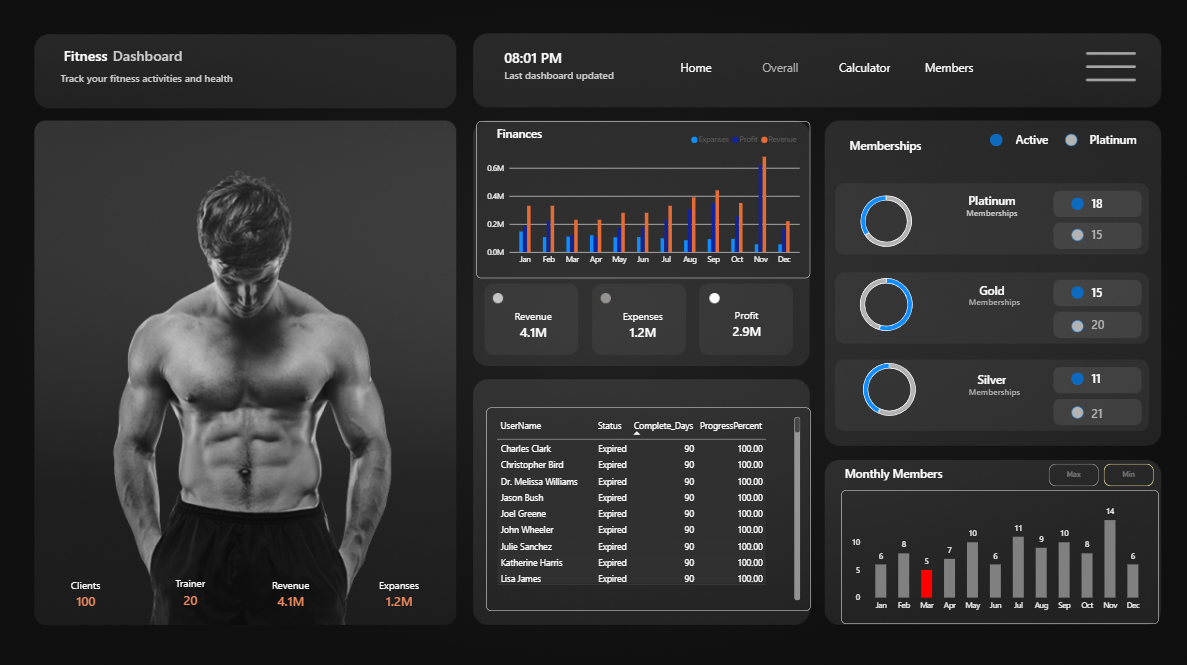

The dashboard page shown, as its layout file describes it:
{"tool":"powerbi","page":{"name":"Overall","canvas":[1920,1080],"ordinal":1},"visuals":[{"type":"cardVisual","fields":{"Data":["Users.Users_Count"]},"box":[82.4,928,126.7,60],"z":0},{"type":"cardVisual","fields":{"Data":["Count(Users.Trainer Name)"]},"box":[242.4,926.9,141.1,60],"z":1000},{"type":"cardVisual","fields":{"Data":["Users.Revenue"]},"box":[410.2,928,126.7,60],"z":2000},{"type":"cardVisual","fields":{"Data":["Users.// Total ExpensesExpanses"]},"box":[576.9,928,141.1,60],"z":3000},{"type":"cardVisual","fields":{"Data":["Users.Revenue"]},"box":[798.9,497.1,126.7,60],"z":4000},{"type":"cardVisual","fields":{"Data":["Users.// Total ExpensesExpanses"]},"box":[965.6,497.1,141.1,60],"z":5000},{"type":"cardVisual","fields":{"Data":["Users.Profit"]},"box":[1132.2,496.7,141.1,60],"z":6000},{"type":"clusteredColumnChart","fields":{"Category":["Calendar.Month"],"Y":["Users.Expanses","Users.Profit","Users.Revenue"]},"box":[769,202,534.4,251.1],"z":7000},{"type":"columnChart","fields":{"Category":["Calendar.Month"],"Y":["Users.Users_Count"]},"box":[1354,792,508,214],"z":8000},{"type":"advancedSlicerVisual","fields":{"Values":["Min_Max_Switch.Type"]},"box":[1685.5,749.1,168,36],"z":9000},{"type":"shape","box":[782.5,202.5,114,37],"z":10000},{"type":"shape","box":[1354.4,743.3,167.8,41.1],"z":11000},{"type":"tableEx","fields":{"Values":["Users.UserName","Users.Status","Users.Complete_Days","Users.ProgressPercent"]},"box":[785.4,660.5,519.4,325.7],"z":12000},{"type":"shape","box":[1538,596,114,37],"z":13000},{"type":"shape","box":[1538,453,114,37],"z":14000},{"type":"shape","box":[1538,310,114,37],"z":15000},{"type":"shape","box":[1542,615,114,37],"z":16000},{"type":"shape","box":[1541.6,471.8,114,37],"z":17000},{"type":"shape","box":[1538,329,114,37],"z":18000},{"type":"donutChart","fields":{"Category":["Users.Status"],"Y":["Users.User_Gold"]},"box":[1355.7,564.3,150,135.7],"z":19000},{"type":"donutChart","fields":{"Category":["Users.Status"],"Y":["Users.User_Platinum"]},"box":[1355.7,428.6,140,135.7],"z":20000},{"type":"donutChart","fields":{"Category":["Users.Status"],"Y":["Users.User_Silver"]},"box":[1355.7,295.7,140,132.9],"z":21000},{"type":"cardVisual","fields":{"Data":["Users.Platinum_Active"]},"box":[1738.2,311.8,65.7,42.9],"z":22000},{"type":"cardVisual","fields":{"Data":["Users.Platinum_Expired"]},"box":[1738,362.9,65.7,42.9],"z":23000},{"type":"cardVisual","fields":{"Data":["Users.Gold_Active"]},"box":[1738.2,454.5,65.7,42.9],"z":24000},{"type":"cardVisual","fields":{"Data":["Users.Gold_Expired"]},"box":[1738,505.4,65.7,42.9],"z":25000},{"type":"cardVisual","fields":{"Data":["Users.Silver_Active"]},"box":[1738,591.4,65.7,42.9],"z":26000},{"type":"cardVisual","fields":{"Data":["Users.Silver_Expired"]},"box":[1738,647.1,65.7,42.9],"z":27000},{"type":"shape","box":[1722.7,323.6,20,20],"z":28000},{"type":"shape","box":[1722.7,465.5,20,20],"z":29000},{"type":"shape","box":[1722.7,604.5,20,20],"z":30000},{"type":"shape","box":[1722.7,374.5,20,20],"z":31000},{"type":"shape","box":[1722.7,519.8,20,20],"z":32000},{"type":"shape","box":[1722.7,658.9,20,20],"z":33000},{"type":"shape","box":[1354.3,221.4,141.4,37.1],"z":34000},{"type":"shape","box":[1591,221.6,20,20],"z":35000},{"type":"shape","box":[1712.9,221.4,20,20],"z":36000},{"type":"shape","box":[1601.4,212.9,114,37],"z":37000},{"type":"shape","box":[1731.4,212.9,114,37],"z":38000},{"type":"shape","box":[88.6,77.1,114,37],"z":39000},{"type":"shape","box":[171.9,77.8,144.3,37.1],"z":40000},{"type":"shape","box":[92.9,114.3,301.4,37.1],"z":41000},{"type":"image","box":[1726.4,65.1,123.1,101.3],"z":42000},{"type":"shape","box":[803.5,61.5,114,74.2],"z":43000},{"type":"shape","box":[803.5,108.6,197.3,38],"z":44000},{"type":"pageNavigator","box":[1057.5,77.5,534,78],"z":45000}]}

Visuals, with their boxes in screenshot pixels (x1, y1, x2, y2), scaled from the page's 1920x1080 canvas onto the 1187x665 screenshot:
cardVisual - Users.Users_Count: (51,571,129,608)
cardVisual - Count(Users.Trainer Name): (150,571,237,608)
cardVisual - Users.Revenue: (254,571,332,608)
cardVisual - Users.// Total ExpensesExpanses: (357,571,444,608)
cardVisual - Users.Revenue: (494,306,572,343)
cardVisual - Users.// Total ExpensesExpanses: (597,306,684,343)
cardVisual - Users.Profit: (700,306,787,343)
clusteredColumnChart - Calendar.Month x Users.Expanses: (475,124,806,279)
columnChart - Calendar.Month x Users.Users_Count: (837,488,1151,619)
advancedSlicerVisual - Min_Max_Switch.Type: (1042,461,1146,483)
shape: (484,125,554,147)
shape: (837,458,941,483)
tableEx - Users.UserName x Users.Status: (486,407,807,607)
shape: (951,367,1021,390)
shape: (951,279,1021,302)
shape: (951,191,1021,214)
shape: (953,379,1024,401)
shape: (953,291,1024,313)
shape: (951,203,1021,225)
donutChart - Users.Status x Users.User_Gold: (838,347,931,431)
donutChart - Users.Status x Users.User_Platinum: (838,264,925,347)
donutChart - Users.Status x Users.User_Silver: (838,182,925,264)
cardVisual - Users.Platinum_Active: (1075,192,1115,218)
cardVisual - Users.Platinum_Expired: (1074,223,1115,250)
cardVisual - Users.Gold_Active: (1075,280,1115,306)
cardVisual - Users.Gold_Expired: (1074,311,1115,338)
cardVisual - Users.Silver_Active: (1074,364,1115,391)
cardVisual - Users.Silver_Expired: (1074,398,1115,425)
shape: (1065,199,1077,212)
shape: (1065,287,1077,299)
shape: (1065,372,1077,385)
shape: (1065,231,1077,243)
shape: (1065,320,1077,332)
shape: (1065,406,1077,418)
shape: (837,136,925,159)
shape: (984,136,996,149)
shape: (1059,136,1071,149)
shape: (990,131,1061,154)
shape: (1070,131,1141,154)
shape: (55,47,125,70)
shape: (106,48,195,71)
shape: (57,70,244,93)
image: (1067,40,1143,102)
shape: (497,38,567,84)
shape: (497,67,619,90)
pageNavigator: (654,48,984,96)
